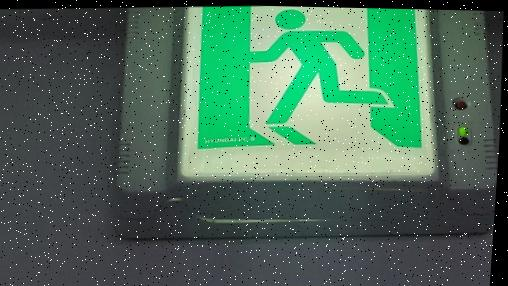emergency_exit: (178, 5, 437, 182)
